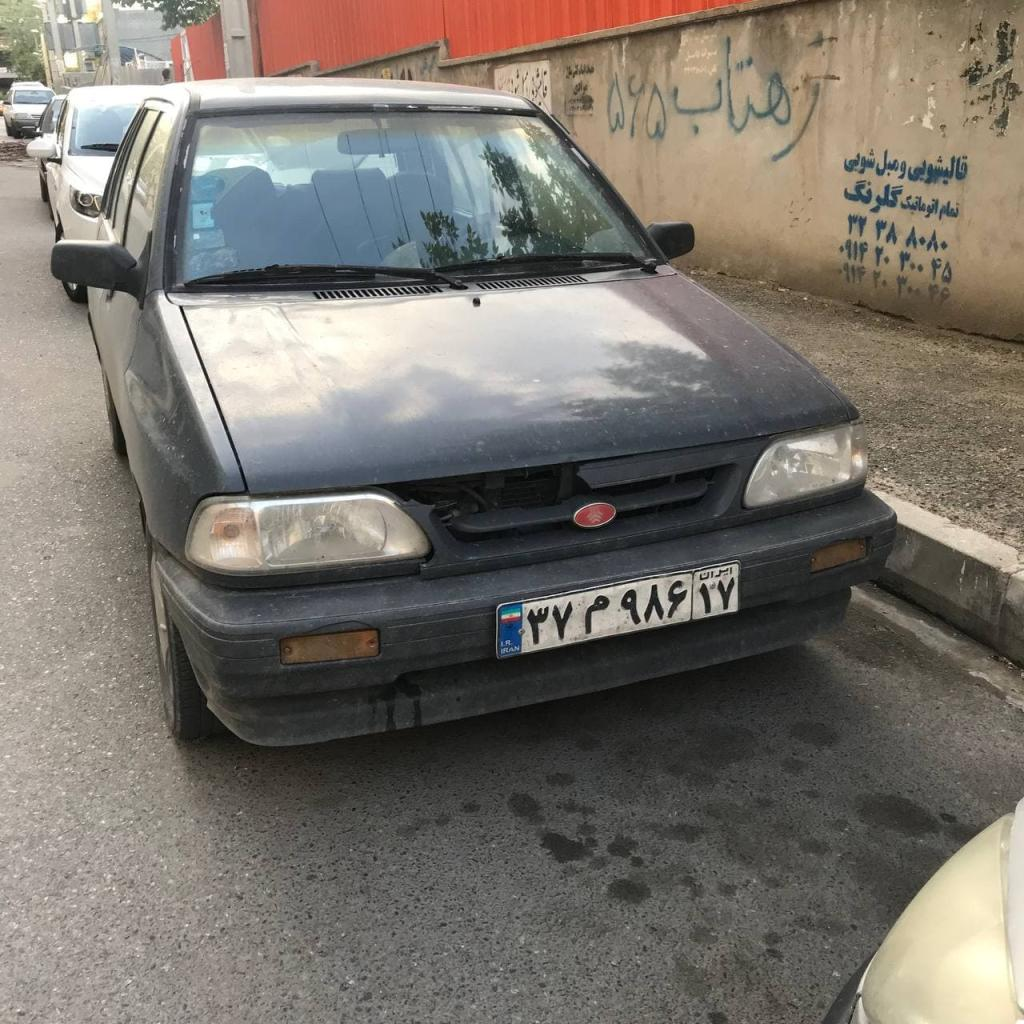Plates: (499, 562, 739, 658)
